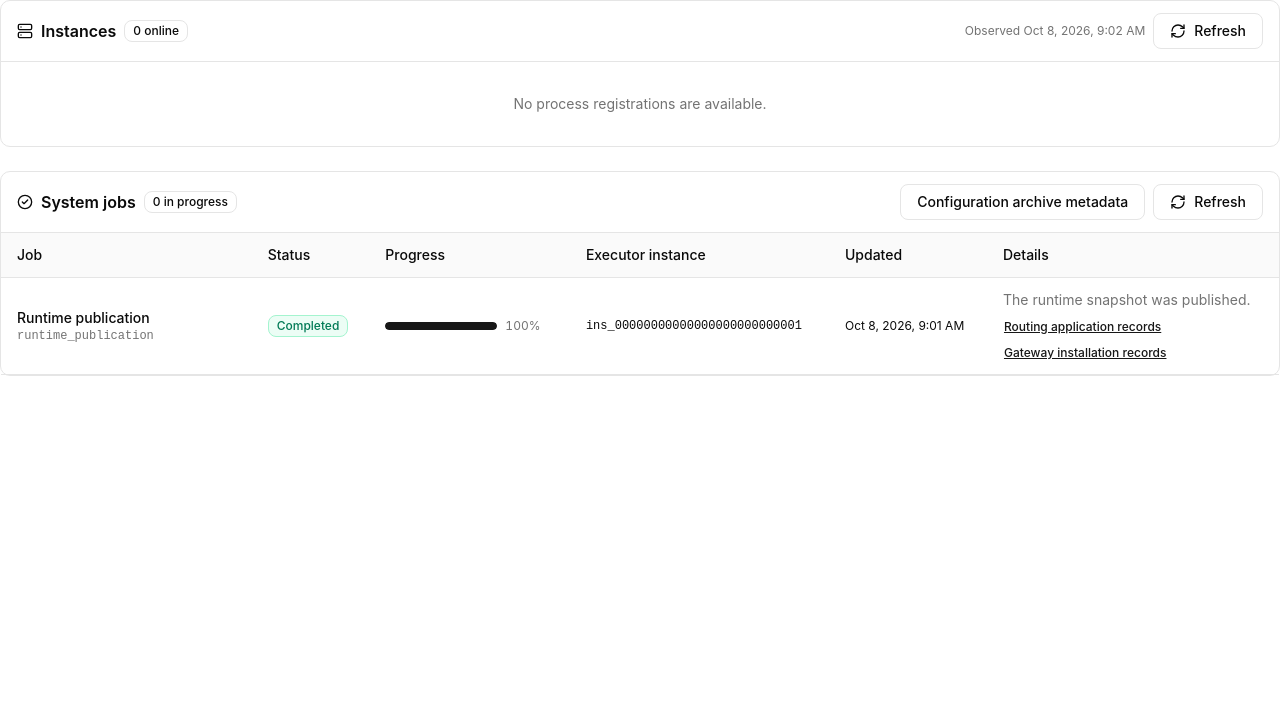
Scenario: routing records in the existing System task details › renders server-confirmed current matching false separately
Click the button "Routing application records": (1083, 327) [1003,318,1162,336]
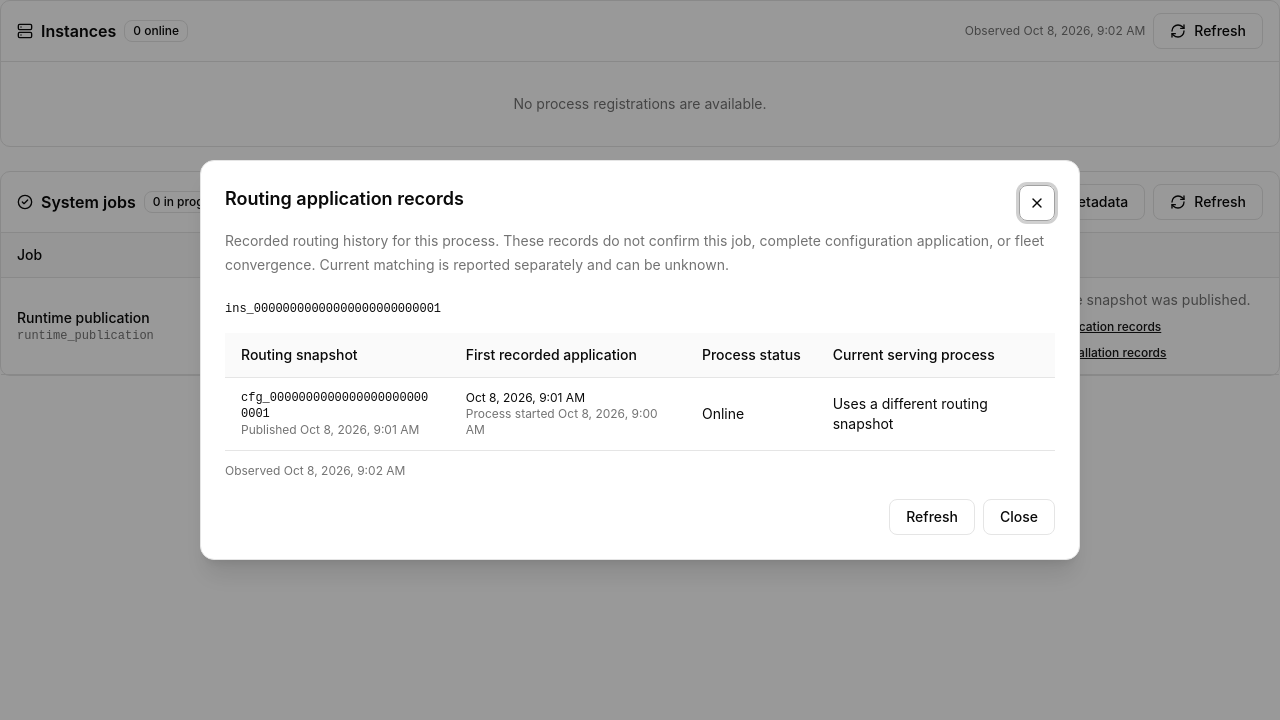
Now the dialog shows "Uses a different routing snapshot", box [833,395,988,432]
